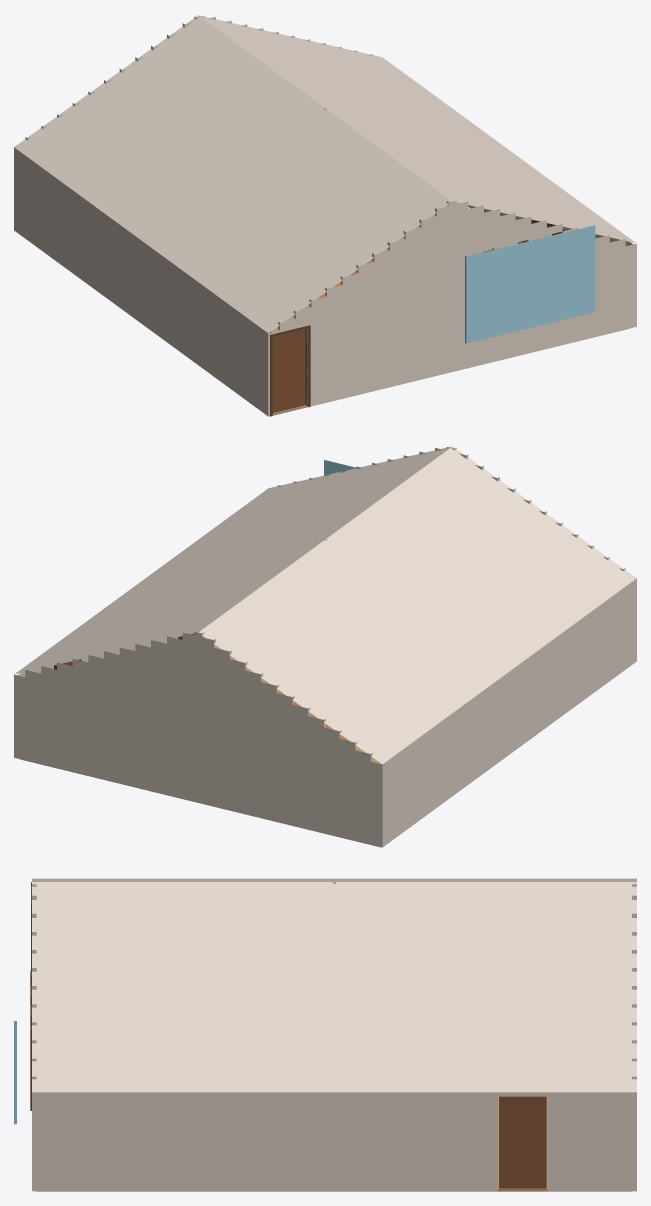
Rendered from room_study.glb.
3 renders of one model, top to bottom at view 1: azimuth 30°, elevation 25°; view 2: azimuth 150°, elevation 25°; view 3: azimuth 270°, elevation 25°, orthographic. The views are drawn at different scales.
Visible parts, largest first — view 1: CEILING, WALLS, VIEW_window_N, DOOR_stairs_down, FRAMES; view 2: CEILING, WALLS; view 3: CEILING, WALLS, DOOR_corridor, FLOOR_visible.
Part boxes in pixels (x1,y1,x2,y2): CEILING: (14, 15, 636, 333); WALLS: (14, 16, 636, 416); VIEW_window_N: (465, 225, 595, 343); DOOR_stairs_down: (272, 328, 305, 412); FRAMES: (270, 233, 560, 416); CEILING: (14, 446, 636, 764); WALLS: (14, 447, 636, 847); CEILING: (32, 878, 636, 1092); WALLS: (32, 884, 636, 1191); DOOR_corridor: (499, 1096, 546, 1188); FLOOR_visible: (37, 1187, 631, 1191).
Bounding box in the file's own units: 10.2 × 4.56 × 12.56.
